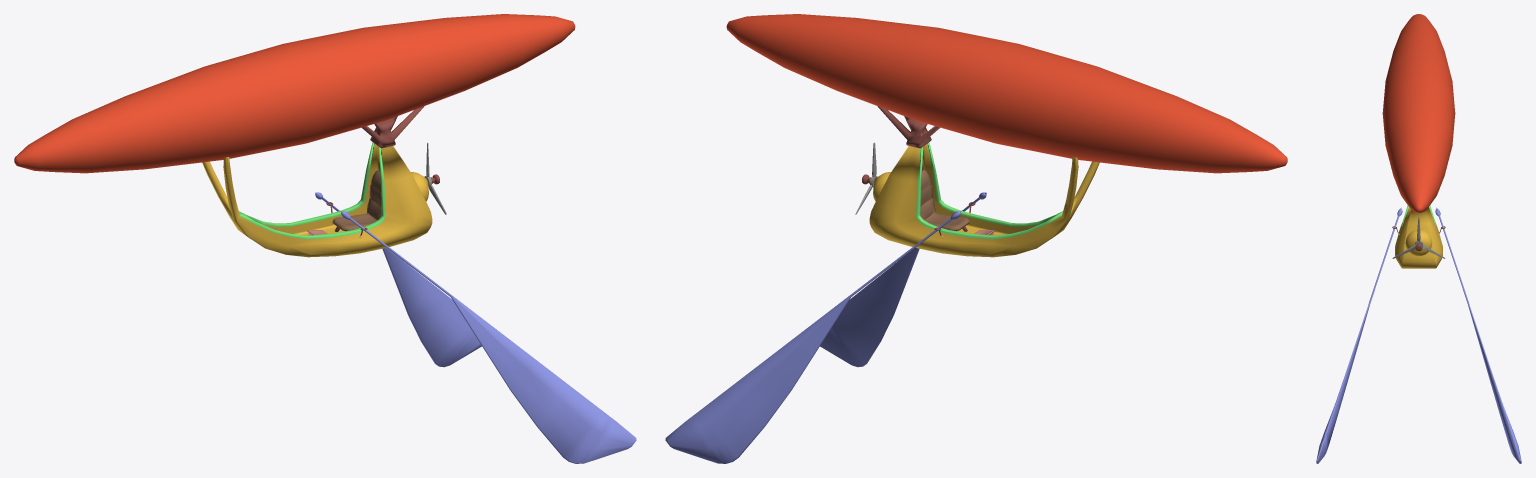
File: airship003.fbx
3 views of the same model, side by side, from view 1: azimuth 30°, elevation 25°; view 2: azimuth 150°, elevation 25°; view 3: azimuth 270°, elevation 25° (orthographic). The views are drawn at different scales.
Visible parts, largest first — view 1: holders, Cylinder.002, Cylinder.001; view 2: holders, Cylinder.001, Cylinder.002; view 3: holders, Cylinder.002, Cylinder.001, condolaire_motorblades.
Part boxes in pixels (x1=…): holders: x1=14, y1=14, x2=575, y2=257; Cylinder.002: x1=340, y1=211, x2=636, y2=463; Cylinder.001: x1=315, y1=192, x2=481, y2=367; holders: x1=726, y1=14, x2=1287, y2=257; Cylinder.001: x1=665, y1=211, x2=961, y2=463; Cylinder.002: x1=820, y1=192, x2=986, y2=367; holders: x1=1382, y1=14, x2=1455, y2=268; Cylinder.002: x1=1316, y1=207, x2=1402, y2=463; Cylinder.001: x1=1435, y1=207, x2=1521, y2=463; condolaire_motorblades: x1=1392, y1=217, x2=1445, y2=258.
Size of the model in its own units: 834 by 598 by 373.
